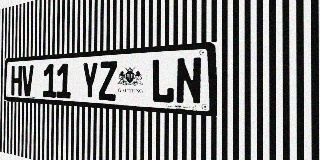1: (56, 63, 71, 98), (43, 64, 56, 98)
H: (11, 66, 22, 96)
L: (151, 58, 175, 104)
N: (175, 56, 202, 105)
V: (22, 65, 34, 97)
Y: (82, 62, 98, 100)
Z: (99, 61, 117, 101)
